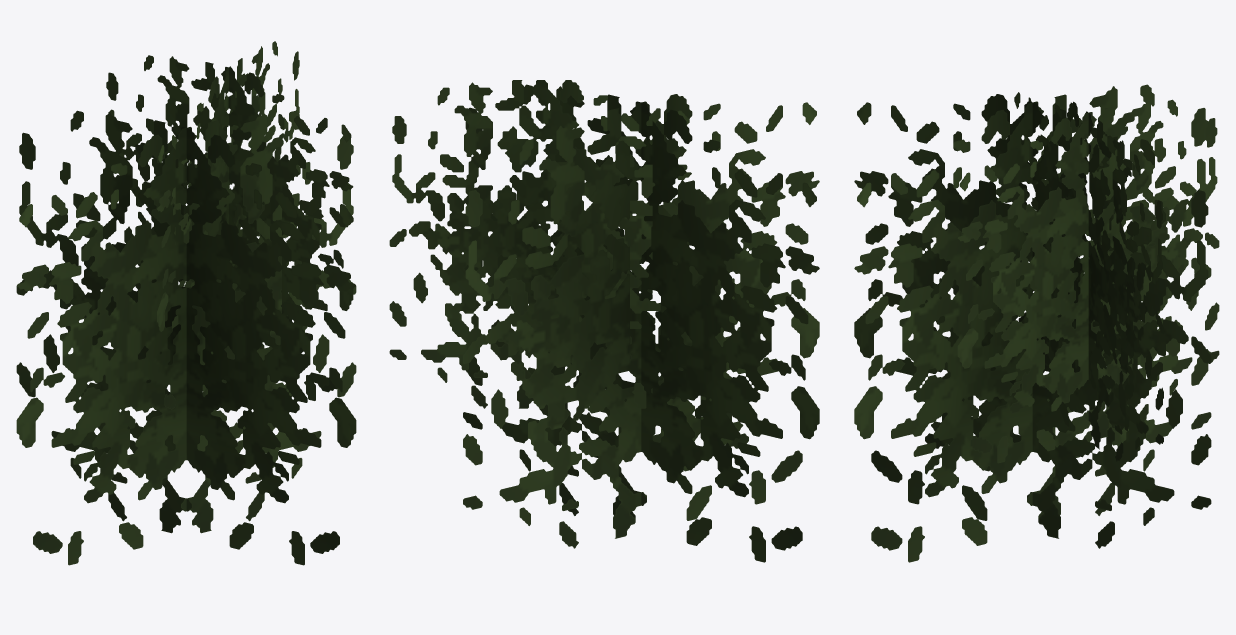
File: bush.glb
3 renders of one model, left to right at view 1: azimuth 30°, elevation 25°; view 2: azimuth 150°, elevation 25°; view 3: azimuth 270°, elevation 25°, orthographic. The views are drawn at different scales.
Visible parts, largest first — view 1: bush; view 2: bush; view 3: bush.
Part boxes in pixels (left/top/right/bottom): bush: left=16, top=41, right=356, bottom=565; bush: left=389, top=80, right=819, bottom=562; bush: left=854, top=84, right=1219, bottom=562.
Size of the model in its own units: 1.53 by 1.8 by 1.33.
1 material, 1 textured.
